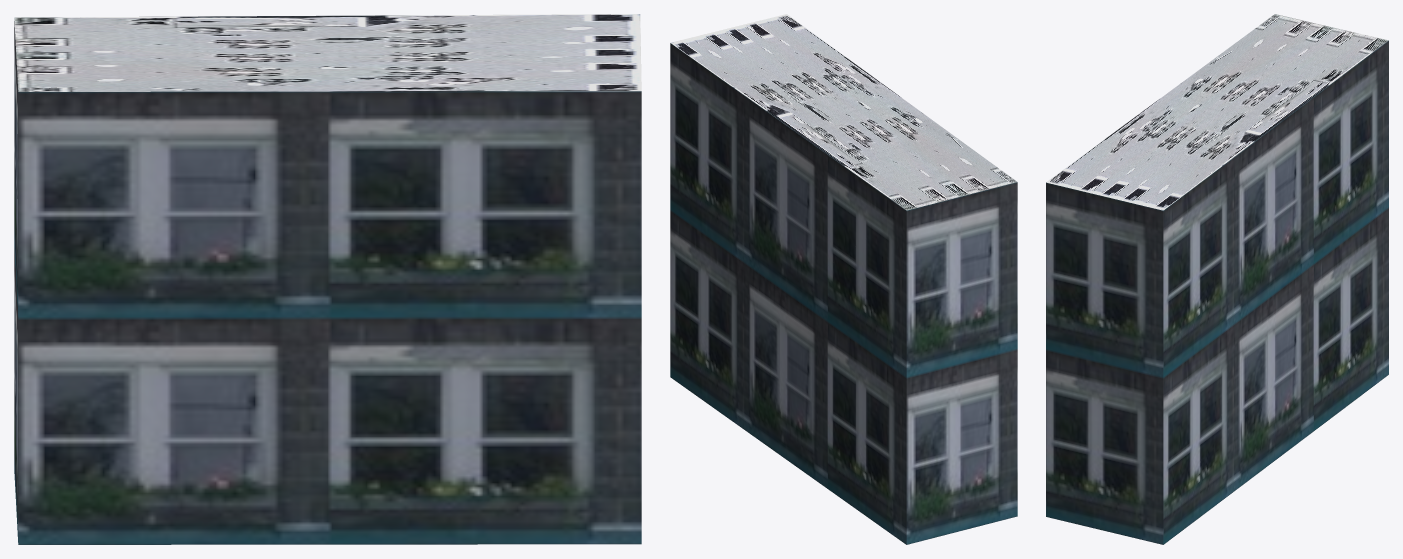
Rendered from ResTex__1133.fbx.
3 views of the same model, side by side, from view 1: azimuth 30°, elevation 25°; view 2: azimuth 150°, elevation 25°; view 3: azimuth 270°, elevation 25° (orthographic). The views are drawn at different scales.
Parts seen in each view (by area): view 1: CityEngineMaterial_11_m, CityEngineMaterial_4_m; view 2: CityEngineMaterial_11_m, CityEngineMaterial_4_m; view 3: CityEngineMaterial_11_m, CityEngineMaterial_4_m.
Boxes of the visible parts, box(x1,y1,x2,y2) form: CityEngineMaterial_11_m: box(14, 21, 641, 544); CityEngineMaterial_4_m: box(14, 14, 641, 91); CityEngineMaterial_11_m: box(670, 43, 1017, 544); CityEngineMaterial_4_m: box(671, 14, 1017, 210); CityEngineMaterial_11_m: box(1046, 40, 1388, 544); CityEngineMaterial_4_m: box(1046, 14, 1388, 210).
Bounding box in the file's own units: 7.57 × 6 × 5.58.
Materials: 2 (2 with a texture image).
